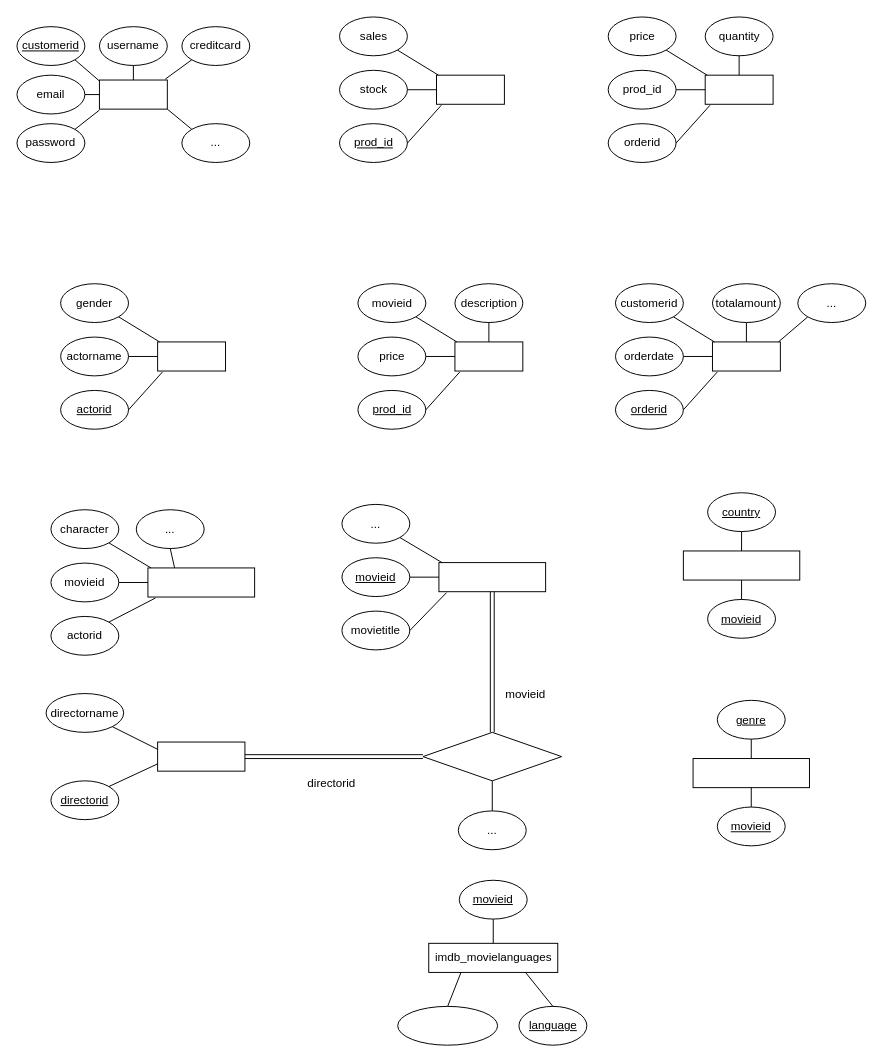
Image size: 883x1062. Some labels were removed from this diagram. Here are the shapes that lost their labels. From the top down, the centre of each, then its label:
pixel 132 94: customers
pixel 470 89: inventory
pixel 738 89: orderdetail
pixel 191 356: imdb_actors
pixel 488 356: product
pixel 745 356: orders
pixel 201 582: imdb_actormovies
pixel 492 577: imdb_movies
pixel 741 565: imdb_moviecountries
pixel 201 756: imdb_direcctors
pixel 492 756: imdb_directormovies
pixel 750 773: imdb_moviegenres
pixel 447 1025: extrainformation
